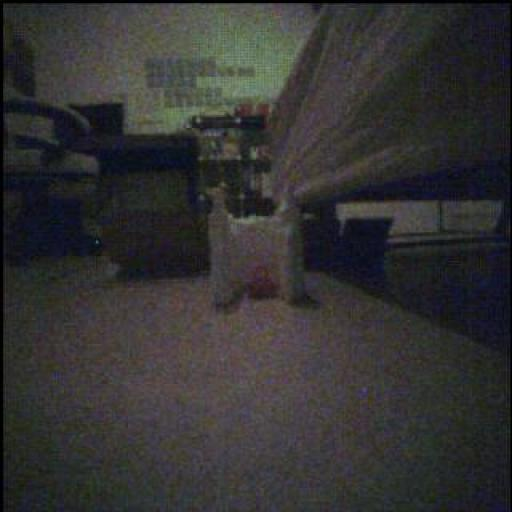basket: (248, 267, 280, 300)
